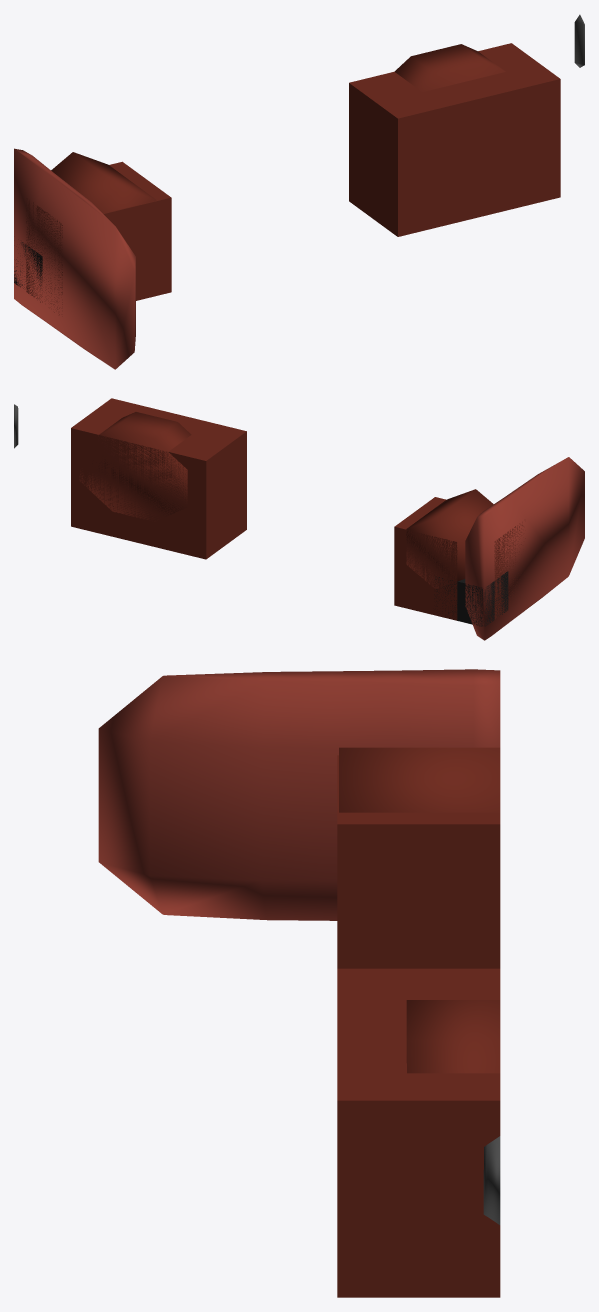
The model's file is newsht-47.glb.
The picture shows the model from 3 angles, top to bottom: view 1: azimuth 30°, elevation 25°; view 2: azimuth 150°, elevation 25°; view 3: azimuth 270°, elevation 25°; orthographic projection. The views are drawn at different scales.
Visible parts, largest first — view 1: newsht-47; view 2: newsht-47; view 3: newsht-47.
Part boxes in pixels (box(x1,y1,x2,y2)): newsht-47: box(14, 14, 584, 369); newsht-47: box(14, 398, 584, 640); newsht-47: box(98, 669, 500, 1297).
Size of the model in its own units: 2 by 0.5115 by 0.7388.
